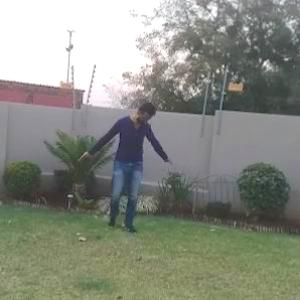land: (85, 92, 190, 245)
